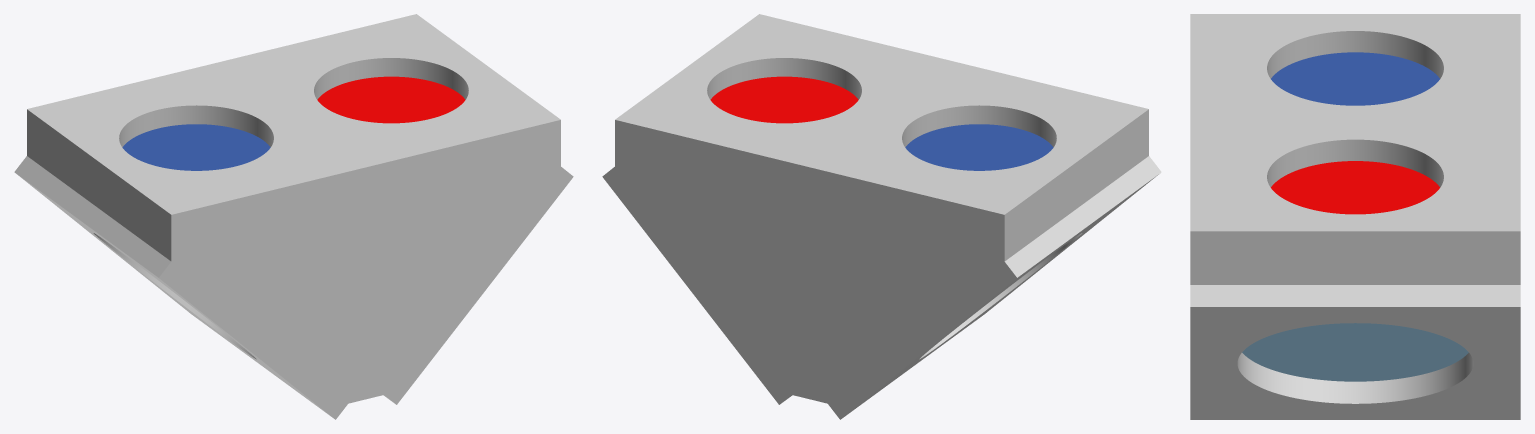
File: real-HRV-volume.obj
3 renders of one model, left to right at view 1: azimuth 30°, elevation 25°; view 2: azimuth 150°, elevation 25°; view 3: azimuth 270°, elevation 25°, orthographic. The views are drawn at different scales.
Parts seen in each view (by area): view 1: mesh8, mesh15, mesh11, mesh17, mesh19, mesh10, mesh18, mesh16, mesh12, mesh13; view 2: mesh9, mesh15, mesh11, mesh17, mesh19, mesh10, mesh18, mesh16, mesh12, mesh13; view 3: mesh15, mesh2, mesh6, mesh0, mesh5, mesh19, mesh17, mesh1, mesh16, mesh18.
Part boxes in pixels (x1,y1,x2,y2): mesh8: [159, 120, 573, 419]; mesh15: [27, 14, 560, 214]; mesh11: [27, 109, 171, 260]; mesh17: [317, 76, 465, 123]; mesh19: [122, 124, 270, 170]; mesh10: [14, 156, 171, 277]; mesh18: [119, 105, 273, 147]; mesh16: [314, 58, 468, 99]; mesh12: [17, 174, 332, 417]; mesh13: [93, 233, 256, 359]; mesh9: [602, 120, 1016, 419]; mesh15: [615, 14, 1148, 214]; mesh11: [1004, 109, 1148, 260]; mesh17: [710, 76, 858, 123]; mesh19: [905, 124, 1053, 170]; mesh10: [1004, 156, 1161, 277]; mesh18: [902, 105, 1056, 147]; mesh16: [707, 58, 861, 99]; mesh12: [843, 174, 1158, 417]; mesh13: [919, 233, 1082, 359]; mesh15: [1190, 14, 1520, 231]; mesh2: [1190, 307, 1520, 419]; mesh6: [1190, 231, 1520, 284]; mesh0: [1242, 323, 1468, 381]; mesh5: [1190, 285, 1520, 306]; mesh19: [1271, 52, 1439, 105]; mesh17: [1271, 161, 1439, 214]; mesh1: [1237, 353, 1473, 403]; mesh16: [1267, 139, 1443, 187]; mesh18: [1267, 31, 1443, 78].
Bounding box in the file's own units: 0.2321 × 0.1311 × 0.14.
